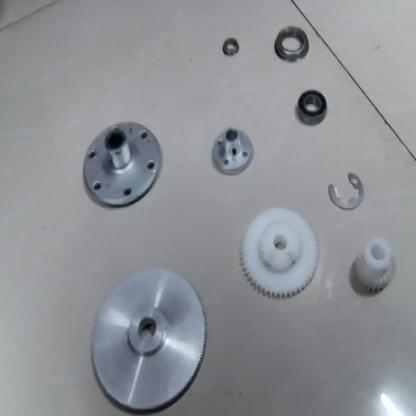FOD: (85, 264, 210, 415), (79, 116, 165, 210), (238, 213, 323, 298), (350, 231, 398, 299), (208, 127, 253, 178), (325, 169, 369, 212), (291, 88, 334, 129), (270, 27, 314, 62), (221, 37, 241, 57)
